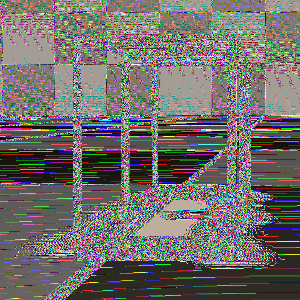Rack: (71, 33, 253, 262)
